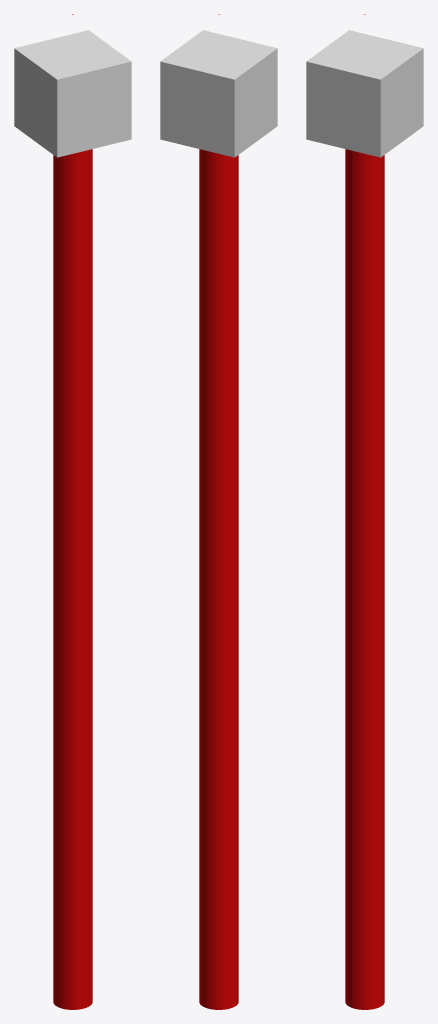
File: eixo_x_transform.fbx
3 renders of one model, left to right at view 1: azimuth 30°, elevation 25°; view 2: azimuth 150°, elevation 25°; view 3: azimuth 330°, elevation 25°, orthographic.
Visible parts, largest first — view 1: Cylinder-col, Cube; view 2: Cylinder-col, Cube; view 3: Cylinder-col, Cube.
Boxes of the visible parts, bbox=[...] form: Cylinder-col: bbox=[53, 14, 92, 1009]; Cube: bbox=[14, 30, 131, 157]; Cylinder-col: bbox=[199, 14, 238, 1009]; Cube: bbox=[160, 30, 277, 157]; Cylinder-col: bbox=[345, 14, 384, 1009]; Cube: bbox=[306, 30, 423, 157].
Bounding box in the file's own units: 78.03 × 988 × 78.03.
